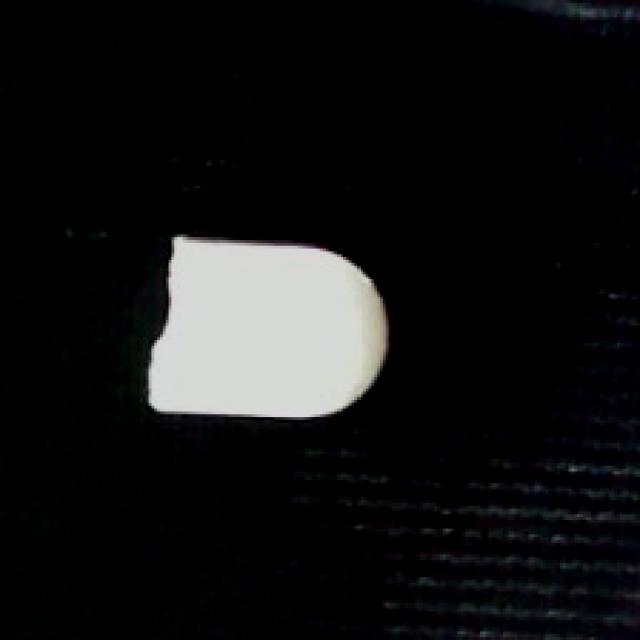defected: (140, 235, 400, 434)
